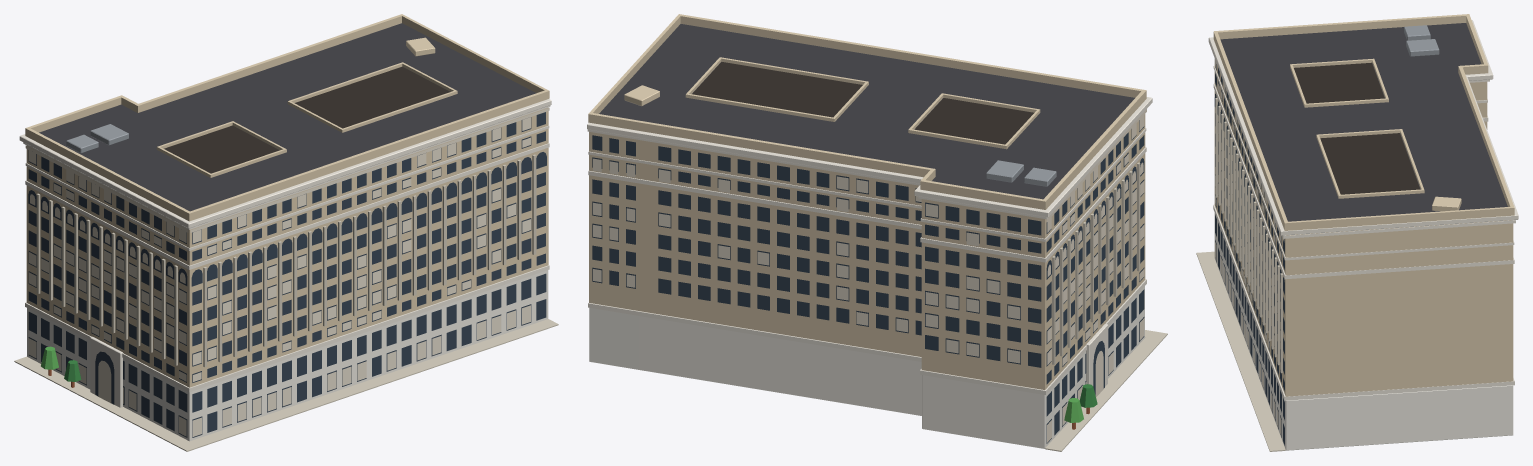
File: mills-building.glb
The picture shows the model from 3 angles, left to right: view 1: azimuth 30°, elevation 25°; view 2: azimuth 150°, elevation 25°; view 3: azimuth 270°, elevation 25°; orthographic projection. The views are drawn at different scales.
Parts seen in each view (by area): view 1: mills-building_body, mills-building_night_glow; view 2: mills-building_body, mills-building_night_glow; view 3: mills-building_body, mills-building_night_glow.
Part boxes in pixels (<box>): mills-building_body: <box>14,14,558,451</box>; mills-building_night_glow: <box>25,108,549,436</box>; mills-building_body: <box>587,14,1167,451</box>; mills-building_night_glow: <box>593,109,1146,442</box>; mills-building_body: <box>1196,14,1518,451</box>; mills-building_night_glow: <box>1214,59,1284,436</box>.
Bounding box in the file's own units: 95.66 × 47 × 60.24.
